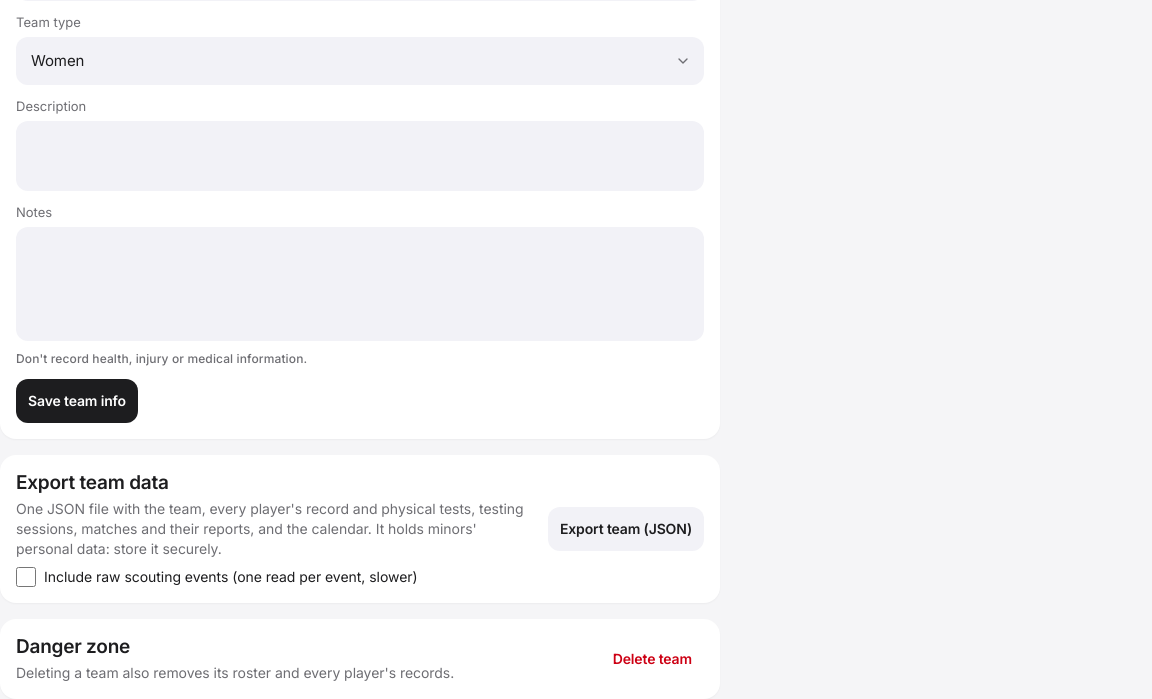
TeamSettingsTab › does nothing until the delete team confirmation is accepted
This screenshot has width=1152, height=699.
(page scrolled)
Click the button "Delete team" at point(652, 659), box [601,637,704,681]
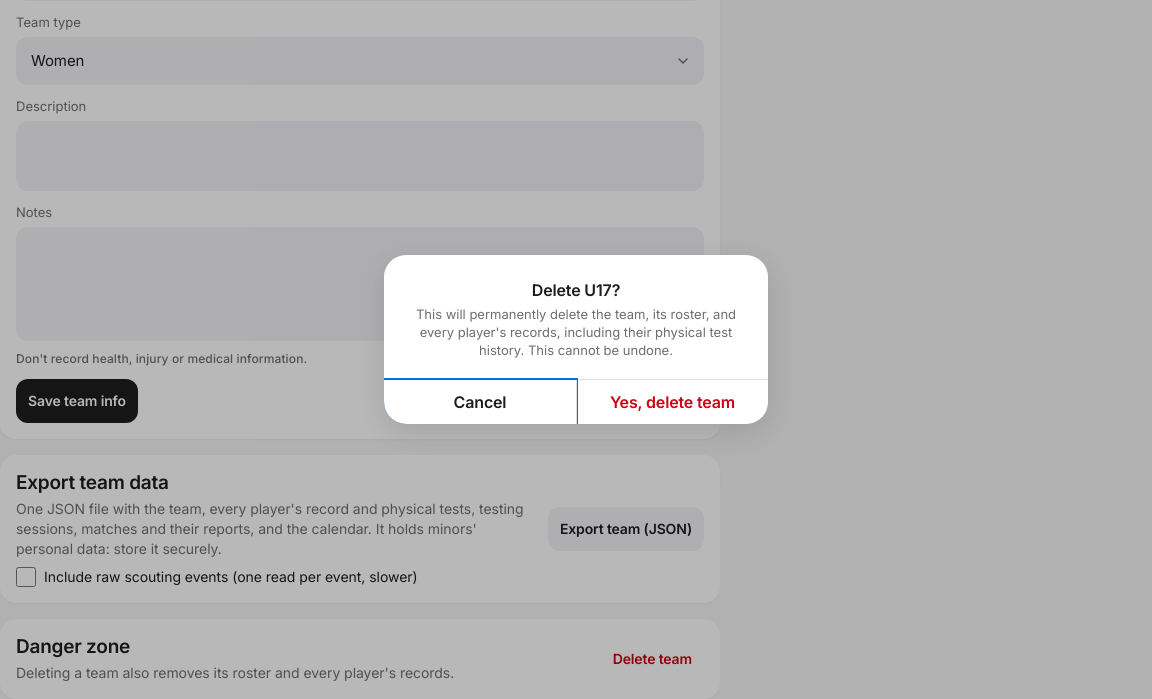
expect the text "permanently delete" is shown: met, box [416,306,736,358]
Click the button "Cancel" at point(480, 402), box [384,380,576,424]
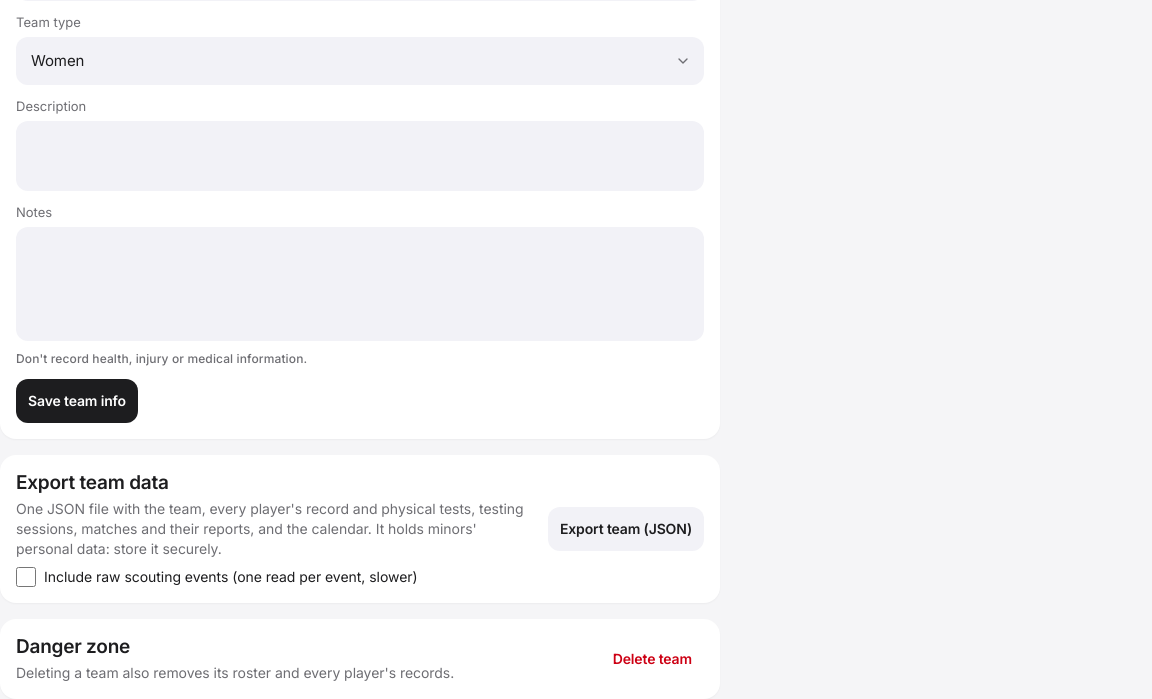
expect the text "permanently delete" is gone: met
